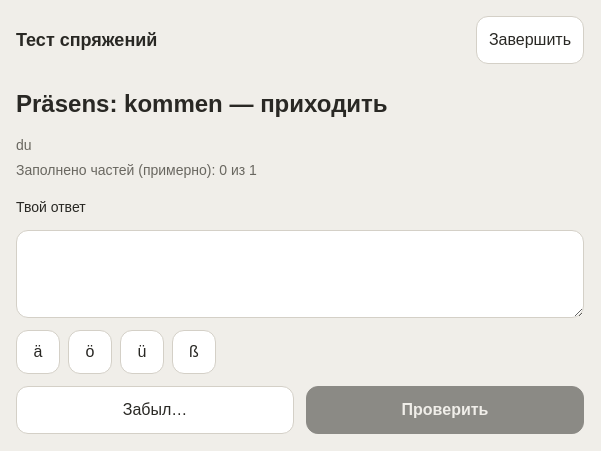
Scenario: useConjugationHost (StrictMode) › useConjugationHost: start from Today › H5 R5: a rejected SESSION_CLOSED of an answer is no refusal of a start
Type "kommt" into the text box at (300,274), box left=16, top=230, right=584, bottom=318
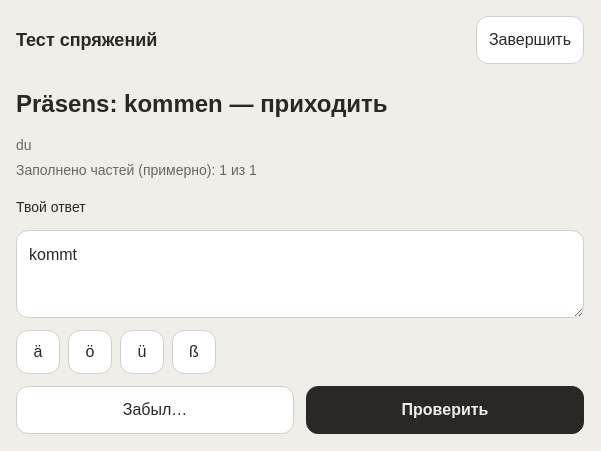
Click the button "Проверить" at (445,410), box left=306, top=386, right=584, bottom=434
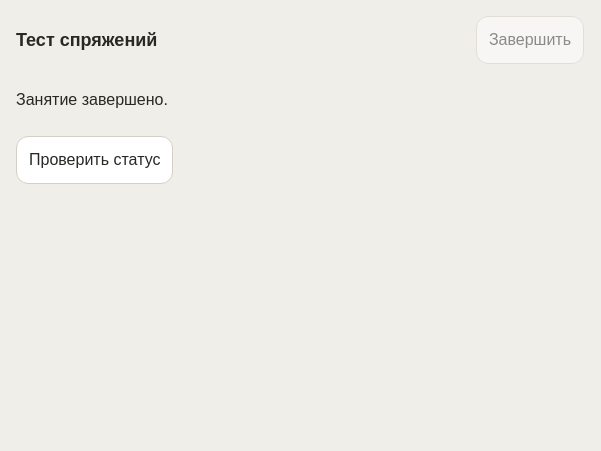
Check: the text "Занятие завершено." is shown, box left=16, top=91, right=168, bottom=108
